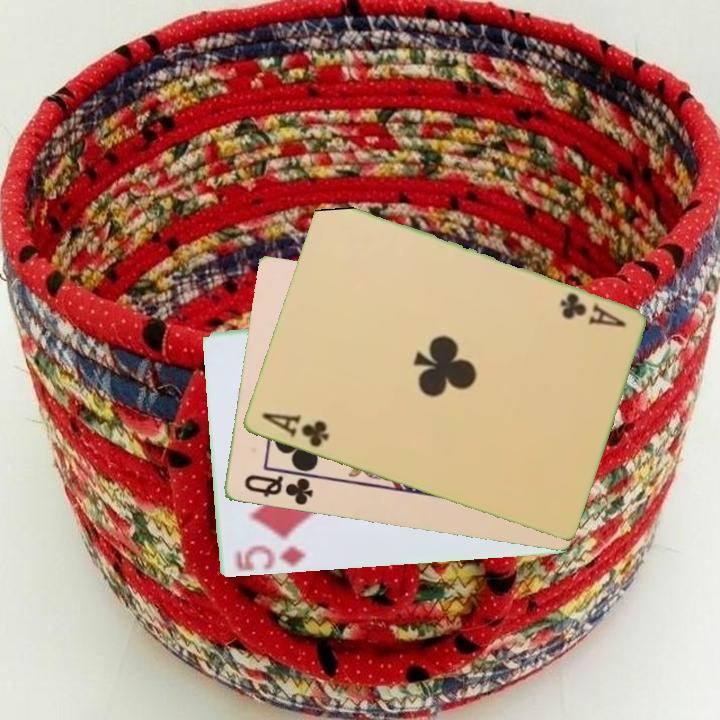5d: (232, 542, 309, 574)
Ac: (257, 409, 332, 451), (555, 289, 629, 331)
Qc: (240, 471, 316, 509)
